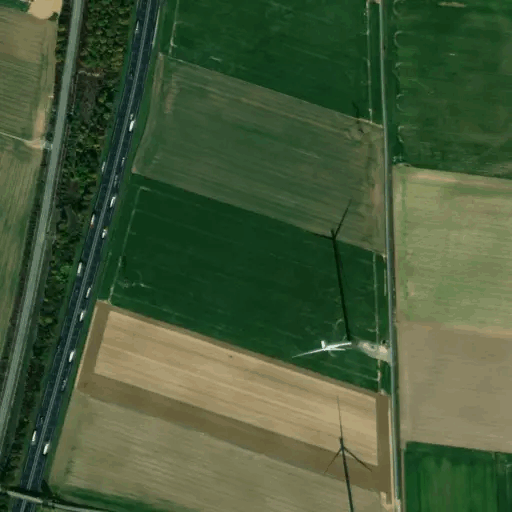wt: (287, 196, 362, 361), (318, 391, 376, 512)
